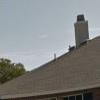Chimney: (68, 7, 94, 47)
